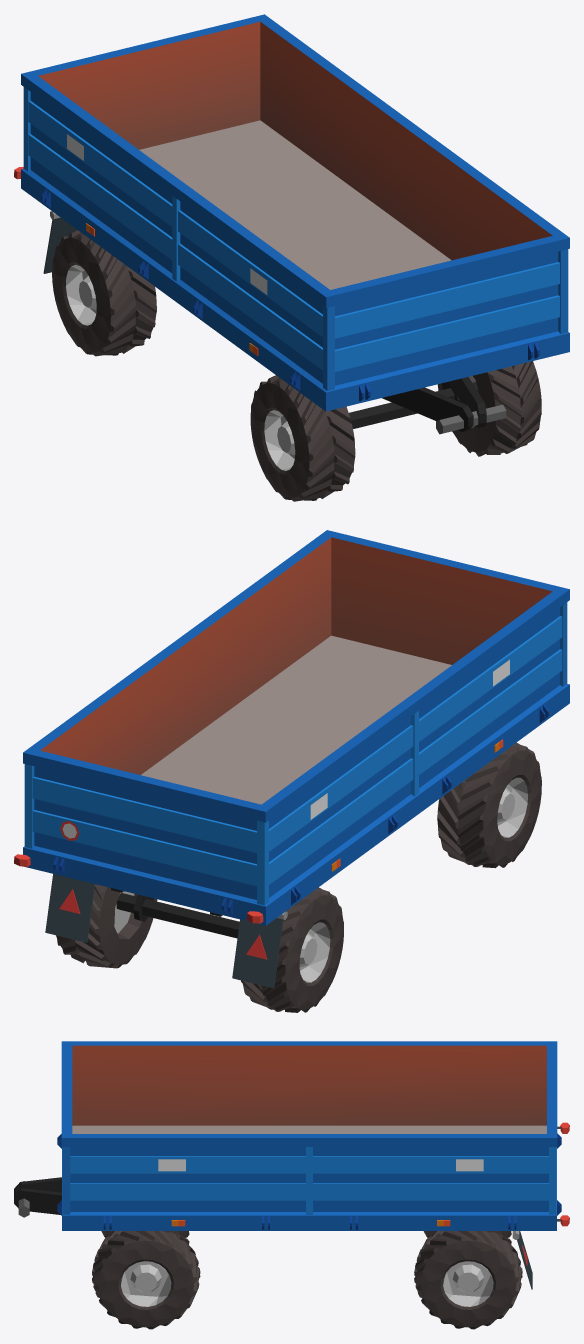
Rendered from trailer_003.glb.
The picture shows the model from 3 angles, top to bottom: view 1: azimuth 30°, elevation 25°; view 2: azimuth 150°, elevation 25°; view 3: azimuth 270°, elevation 25°; orthographic projection. The views are drawn at different scales.
Visible parts, largest first — view 1: trailer_003; view 2: trailer_003; view 3: trailer_003.
Part boxes in pixels (bbox=[...]): trailer_003: bbox=[14, 14, 569, 501]; trailer_003: bbox=[14, 530, 569, 1012]; trailer_003: bbox=[14, 1041, 569, 1329].
Size of the model in its own units: 2.31 by 2.12 by 5.4.
1 material, 1 textured.
